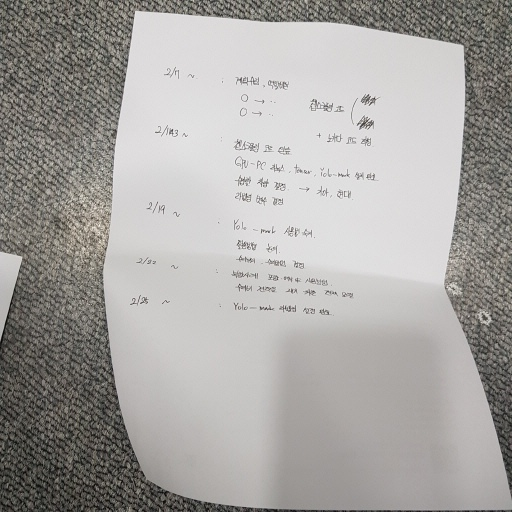Paper_3: (110, 2, 499, 512)
